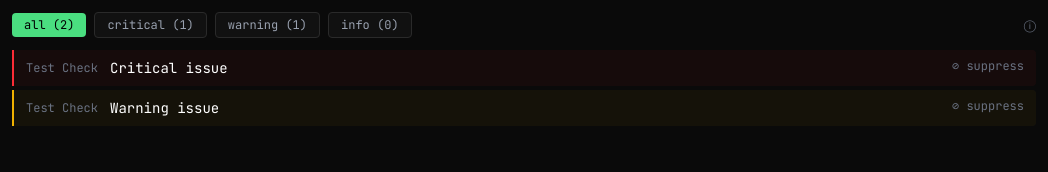
IssuesList › filters to only critical issues when critical button is clicked
Click the button "critical (1)".
click(151, 25)  # box [94,12,207,38]
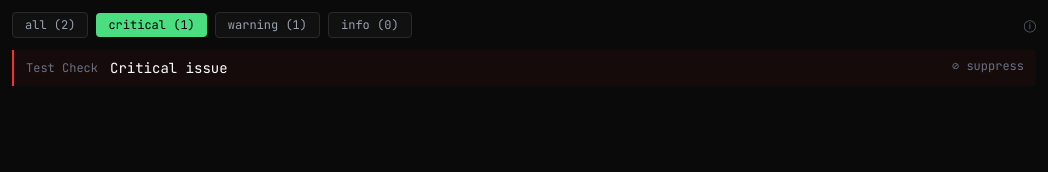
Expected: the text "Critical issue" is shown, [110,59,228,77]
Expected: the text "Warning issue" is gone
